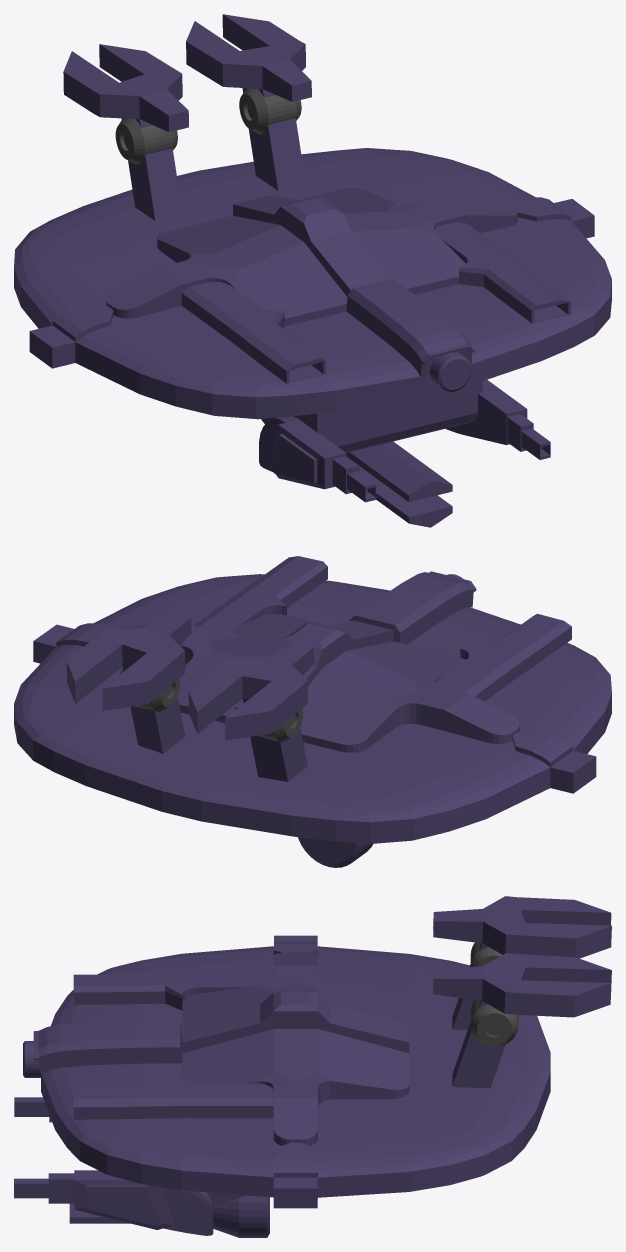
The model's file is Drone.fbx.
3 views of the same model, one above another, from view 1: azimuth 30°, elevation 25°; view 2: azimuth 150°, elevation 25°; view 3: azimuth 270°, elevation 25° (orthographic). The views are drawn at different scales.
Parts seen in each view (by area): view 1: Cylinder; view 2: Cylinder; view 3: Cylinder.
Part boxes in pixels (<box>): Cylinder: <box>14,14,611,527</box>; Cylinder: <box>14,556,611,867</box>; Cylinder: <box>14,896,611,1237</box>.
Size of the model in its own units: 861 by 461 by 860.
